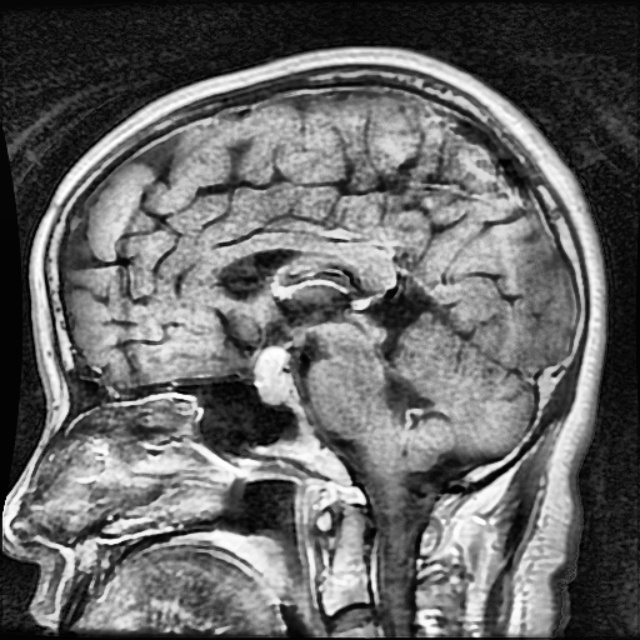Pituitary: (255, 348, 292, 404)
